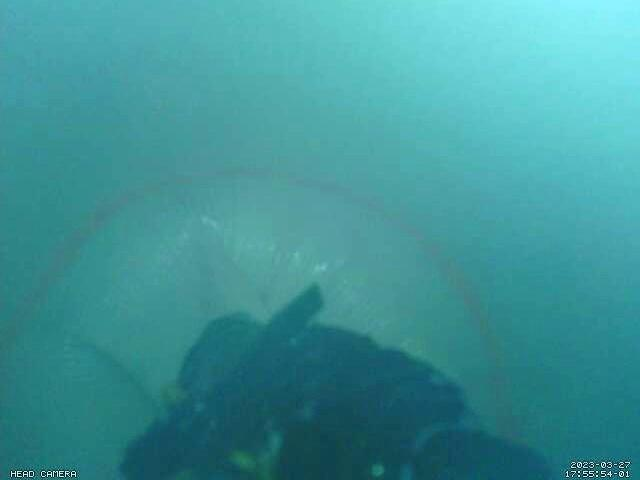head: (1, 168, 520, 442)
